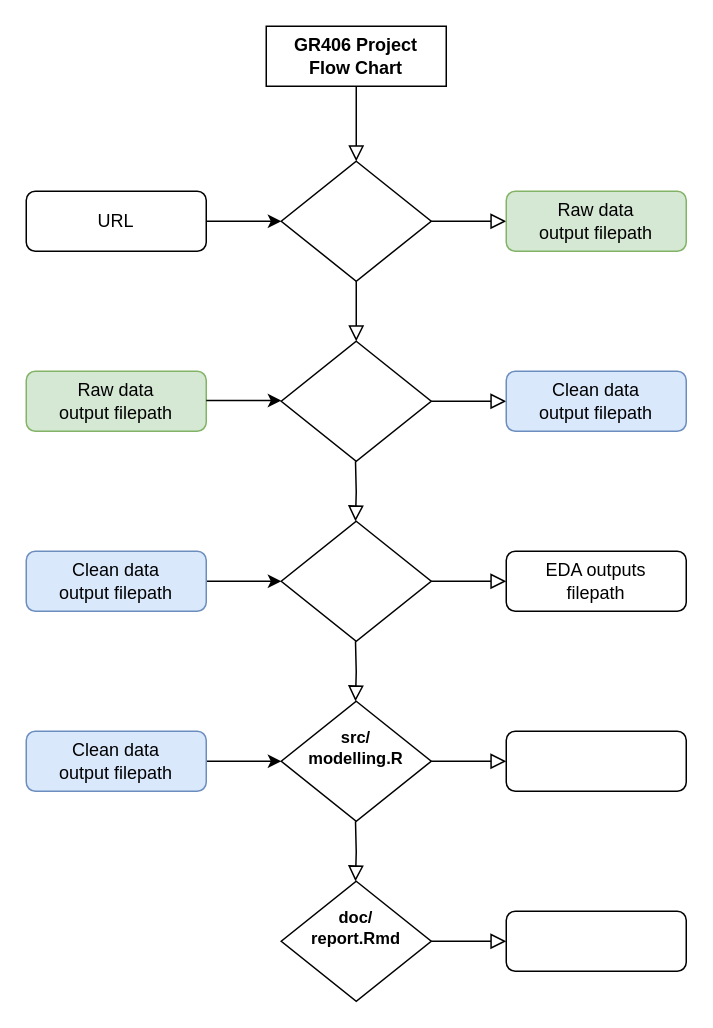
Image size: 713x1028. Some labels were removed from this diagram. Here are the shapes that lost their labels. From the top down, the centre of each, then its label:
the point at 355,220: src/ load_csv.py
the point at 355,400: src/ data_cleaning.R
the point at 355,580: src/ eda.R
the point at 595,760: Modelling results output filepath
the point at 595,940: report.md
